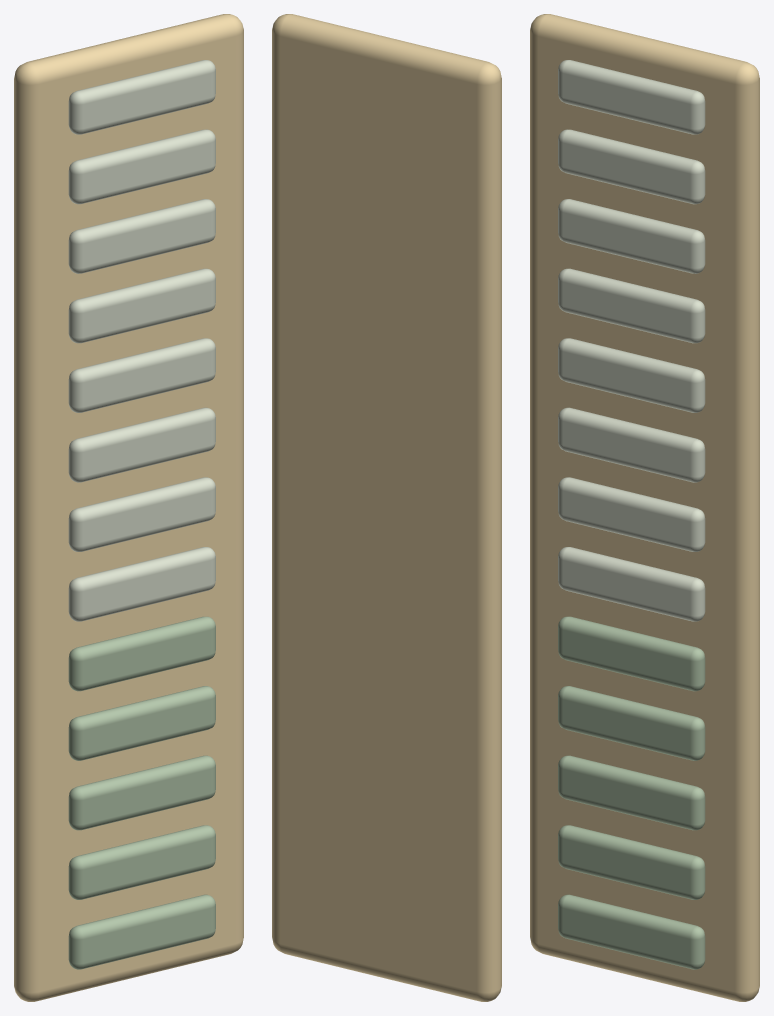
The model's file is angle_meter.glb.
3 views of the same model, side by side, from view 1: azimuth 30°, elevation 25°; view 2: azimuth 150°, elevation 25°; view 3: azimuth 330°, elevation 25° (orthographic).
Parts seen in each view (by area): view 1: meter_backing, meter_segment_45, meter_segment_10, meter_segment_20, meter_segment_55, meter_segment_15, meter_segment_35, meter_segment_05, meter_segment_40, meter_segment_00, meter_segment_50, meter_segment_25 (+2 smaller); view 2: meter_backing; view 3: meter_backing, meter_segment_45, meter_segment_10, meter_segment_20, meter_segment_35, meter_segment_55, meter_segment_05, meter_segment_15, meter_segment_40, meter_segment_00, meter_segment_50, meter_segment_25 (+2 smaller).
Part boxes in pixels (left/top/right/bottom): meter_backing: left=14, top=14, right=243, bottom=1001; meter_segment_45: left=68, top=268, right=215, bottom=343; meter_segment_10: left=68, top=755, right=215, bottom=830; meter_segment_20: left=68, top=616, right=215, bottom=691; meter_segment_55: left=68, top=129, right=215, bottom=204; meter_segment_15: left=68, top=686, right=215, bottom=760; meter_segment_35: left=68, top=407, right=215, bottom=482; meter_segment_05: left=68, top=825, right=215, bottom=899; meter_segment_40: left=68, top=338, right=215, bottom=412; meter_segment_00: left=68, top=894, right=215, bottom=969; meter_segment_50: left=68, top=199, right=215, bottom=273; meter_segment_25: left=68, top=547, right=215, bottom=621; meter_backing: left=272, top=14, right=501, bottom=1001; meter_backing: left=530, top=14, right=759, bottom=1001; meter_segment_45: left=558, top=268, right=705, bottom=343; meter_segment_10: left=558, top=755, right=705, bottom=830; meter_segment_20: left=558, top=616, right=705, bottom=691; meter_segment_35: left=558, top=407, right=705, bottom=482; meter_segment_55: left=558, top=129, right=705, bottom=204; meter_segment_05: left=558, top=825, right=705, bottom=899; meter_segment_15: left=558, top=686, right=705, bottom=760; meter_segment_40: left=558, top=338, right=705, bottom=412; meter_segment_00: left=558, top=894, right=705, bottom=969; meter_segment_50: left=558, top=199, right=705, bottom=273; meter_segment_25: left=558, top=547, right=705, bottom=621.
Bounding box in the file's own units: 0.078 × 0.31 × 0.016.
